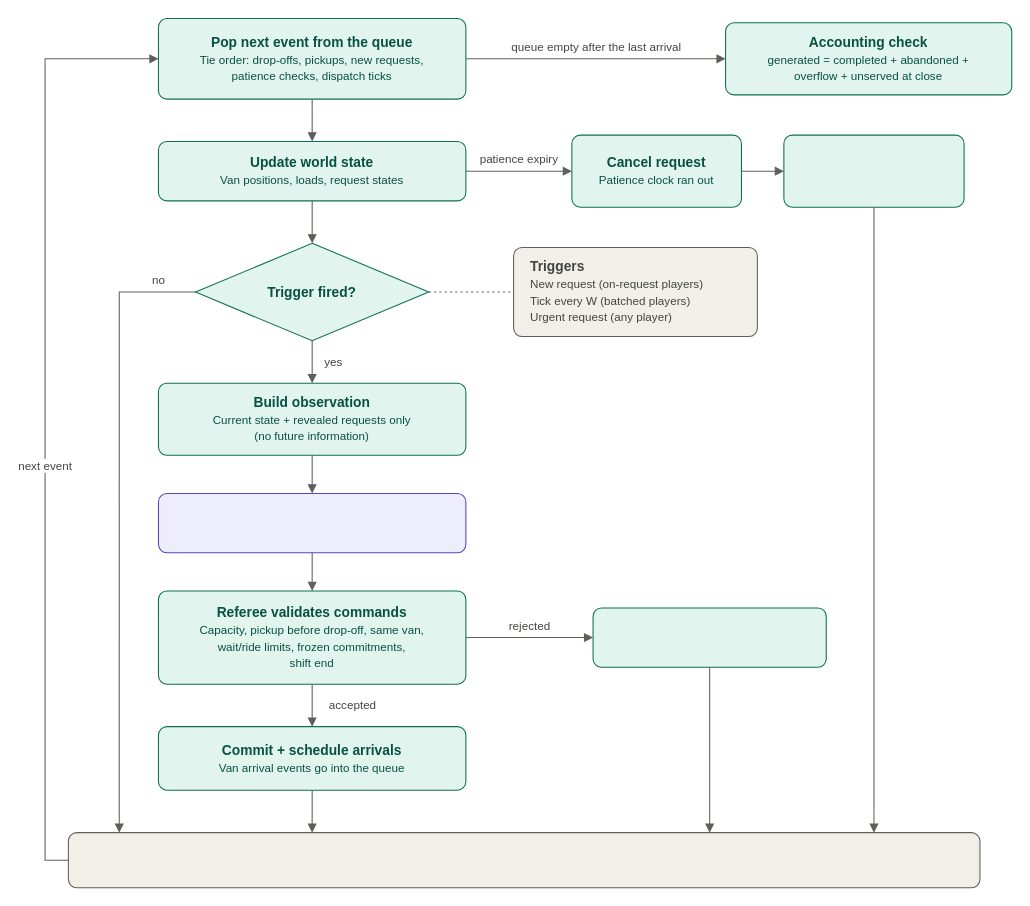
Some shapes in this 1030 by 906 pixel diagram are drawn without their labels. Each missing label, with the centre of its shape:
Append to replay log Every event, time-stamped: point (523, 860)
Dispatcher.decide() Observation in, commands out: point (311, 522)
Log reason Rejected, state unchanged: point (709, 637)
Overflow (Lyft) rule Counts as Lyft overflow or abandoned: point (873, 170)
